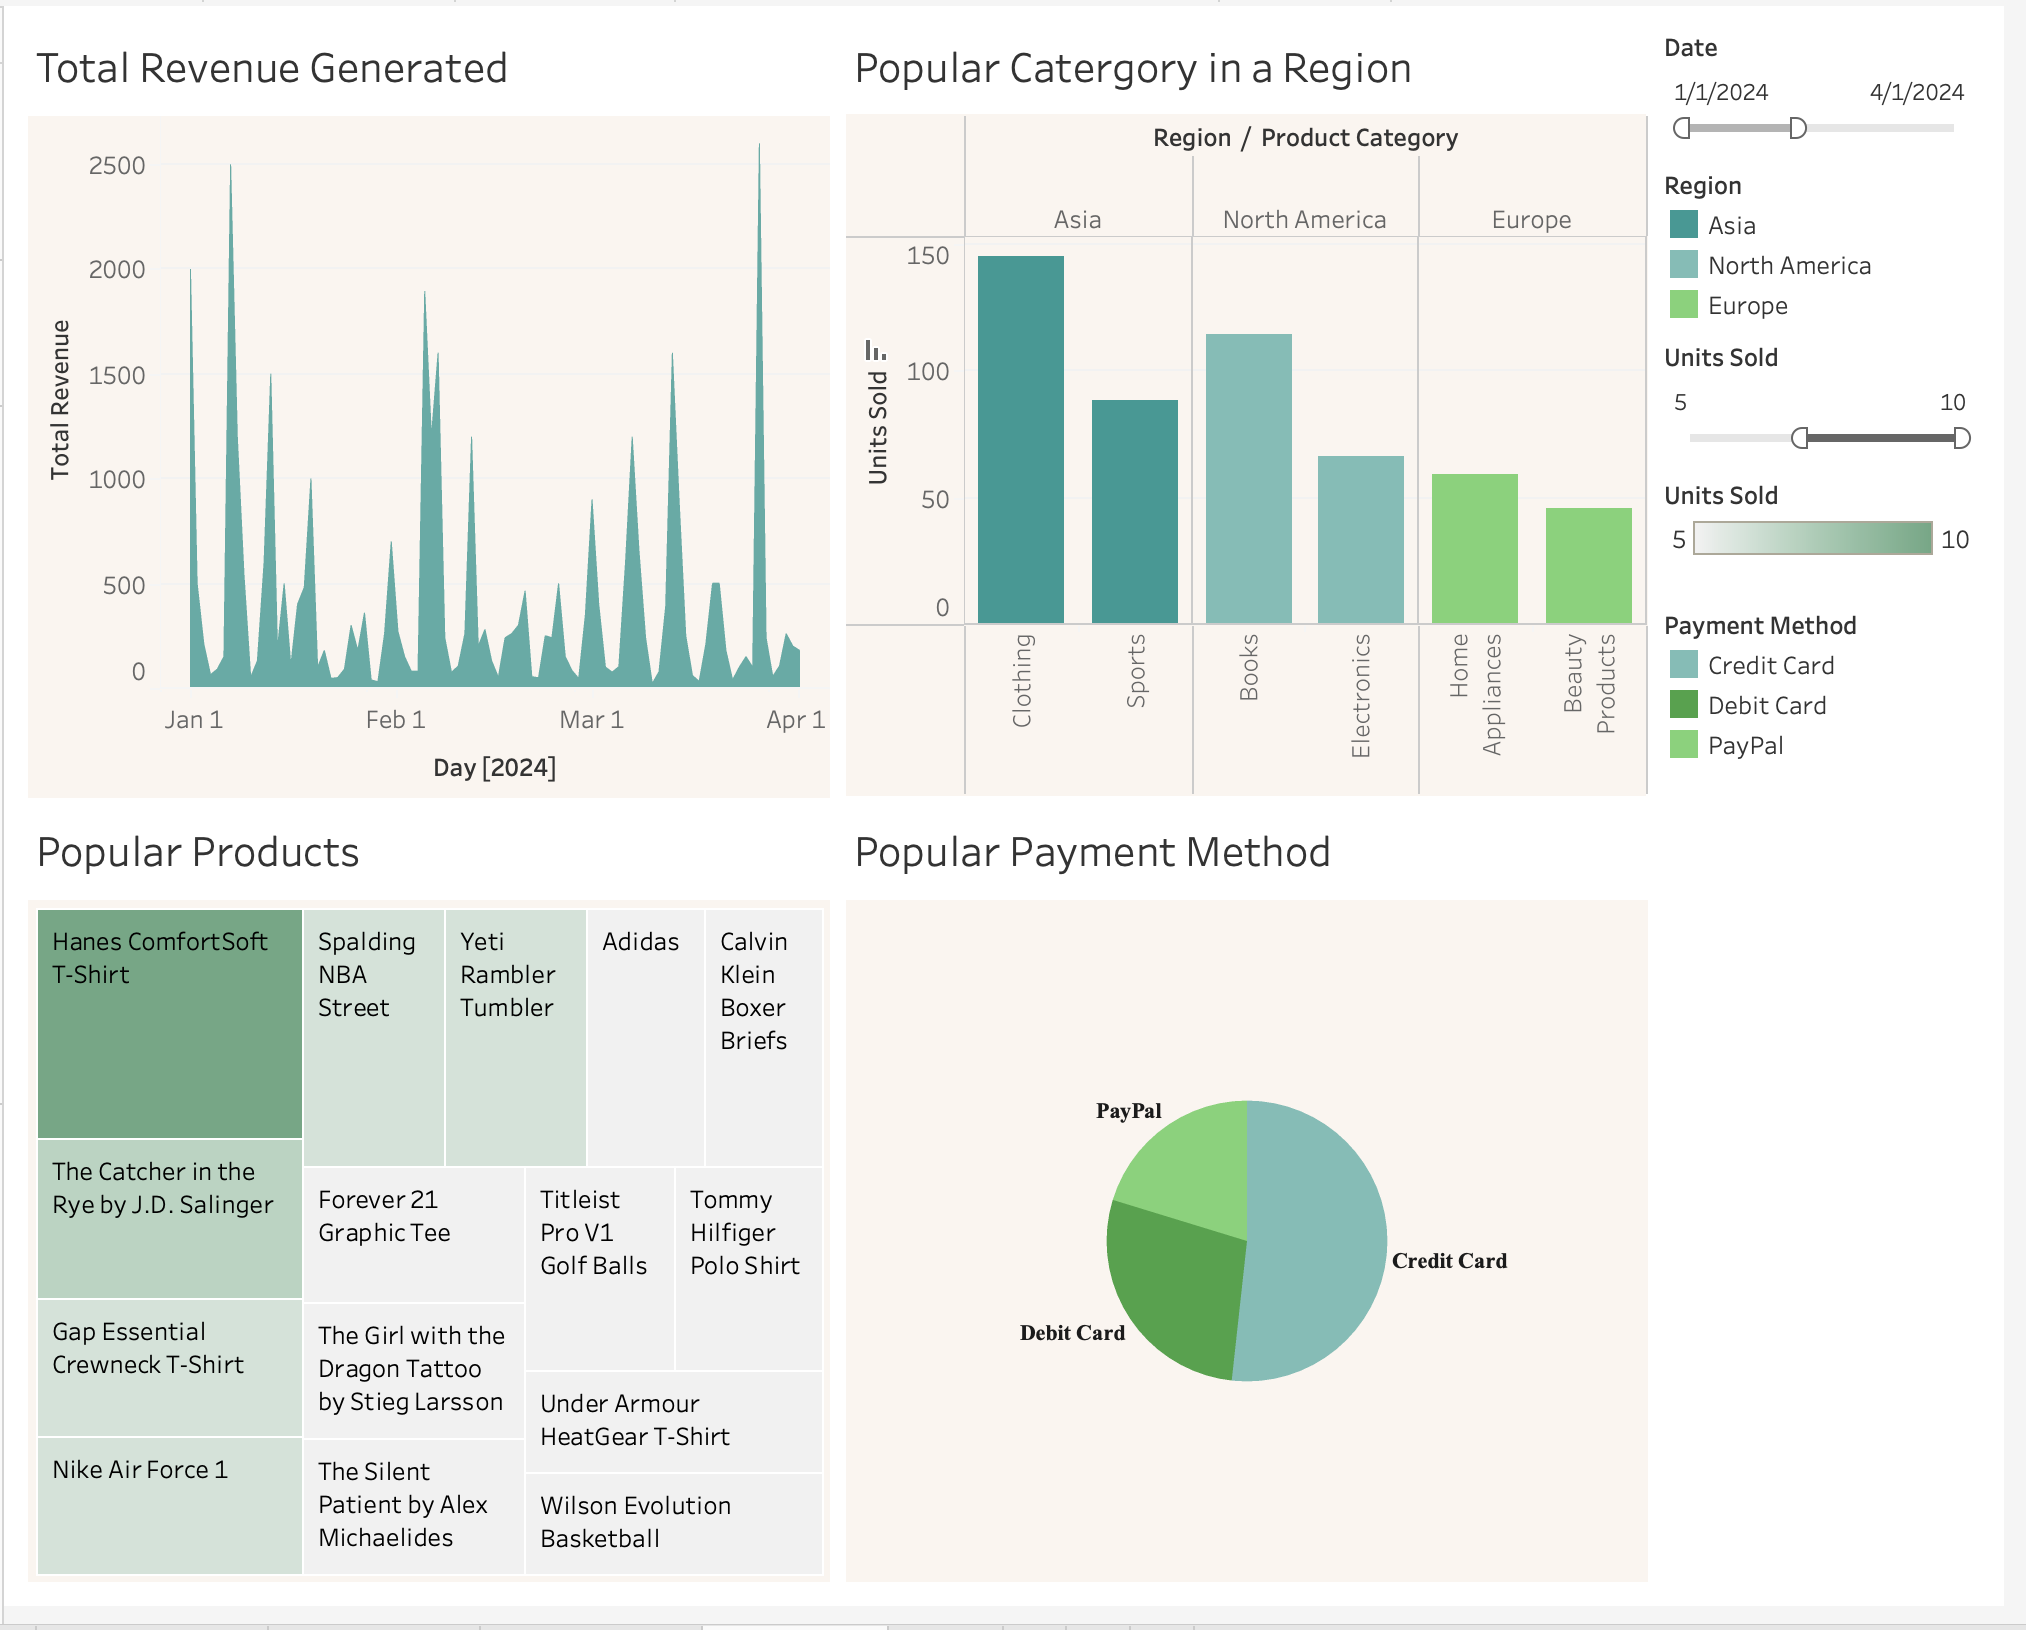

What the dashboard file says about the page in this screenshot:
{"tool":"tableau","page":{"name":"Dashboard","canvas":[1000,800],"ordinal":0},"visuals":[{"type":"worksheet","title":"Total Revenue ","mark":"Area","rows":["Total Revenue"],"cols":["Date"],"box":[8,8,409,392]},{"type":"worksheet","title":"Popular Category ","mark":"Automatic","rows":["Units Sold"],"cols":["Region","Product Category"],"box":[417,8,409,392]},{"type":"filter","title":"Total Revenue ","param":"[federated.1tz23ml0tg52sg1d610jb02ojma1].[none:Date:qk]","box":[826,8,166,69]},{"type":"legend","title":"Popular Category ","param":"[federated.1tz23ml0tg52sg1d610jb02ojma1].[none:Region:nk]","box":[826,77,166,86]},{"type":"filter","title":"Popluar Product","param":"[federated.1tz23ml0tg52sg1d610jb02ojma1].[sum:Units Sold:qk]","box":[826,163,166,69]},{"type":"legend","title":"Popluar Product","param":"[federated.1tz23ml0tg52sg1d610jb02ojma1].[sum:Units Sold:qk]","box":[826,232,166,65]},{"type":"legend","title":"Popular Payment","param":"[federated.1tz23ml0tg52sg1d610jb02ojma1].[none:Payment Method:nk]","box":[826,297,166,86]},{"type":"worksheet","title":"Popluar Product","mark":"Square","box":[8,400,409,392]},{"type":"worksheet","title":"Popular Payment","mark":"Pie","box":[417,400,409,392]}]}

Visuals, with their boxes in screenshot pixels (x1, y1, x2, y2), scaled from the page's 1000x800 canvas onto the 2026x1630 screenshot:
"Total Revenue " worksheet (Area marks): (16,16,845,815)
"Popular Category " worksheet: (845,16,1673,815)
"Total Revenue " filter: (1673,16,2010,157)
"Popular Category " legend: (1673,157,2010,332)
"Popluar Product" filter: (1673,332,2010,473)
"Popluar Product" legend: (1673,473,2010,605)
"Popular Payment" legend: (1673,605,2010,780)
"Popluar Product" worksheet (Square marks): (16,815,845,1614)
"Popular Payment" worksheet (Pie marks): (845,815,1673,1614)
